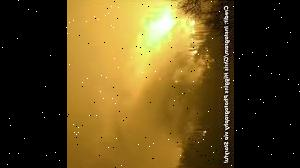fire: (123, 0, 200, 57)
